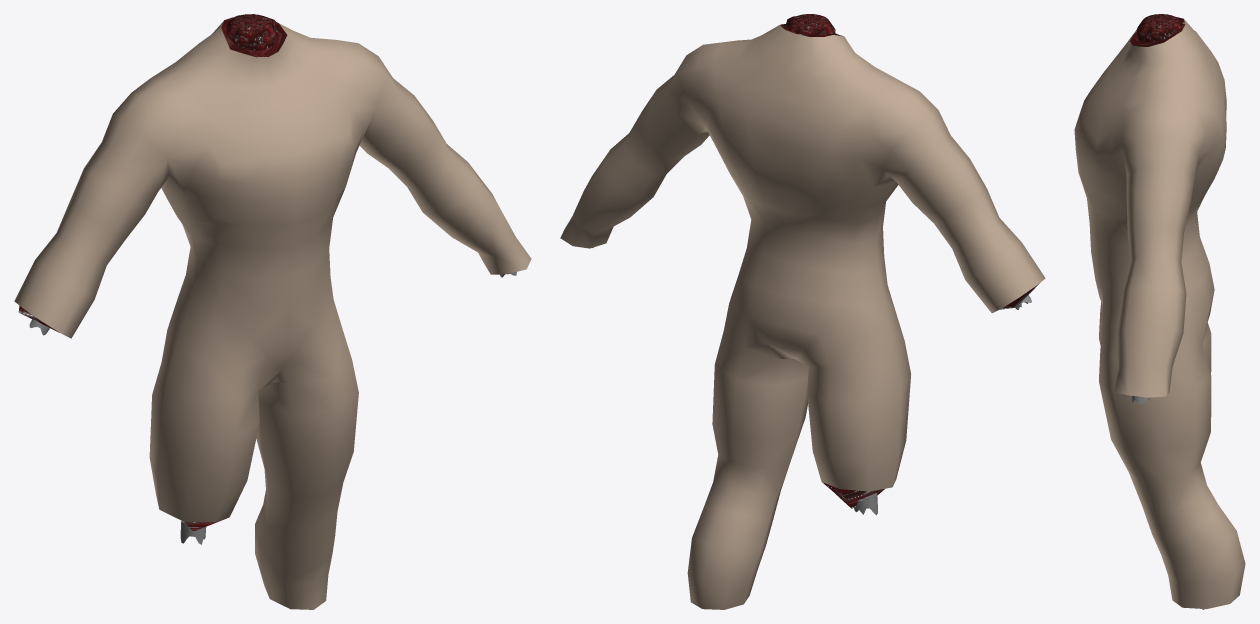
Rendered from deadbody-lee.fbx.
3 views of the same model, side by side, from view 1: azimuth 30°, elevation 25°; view 2: azimuth 150°, elevation 25°; view 3: azimuth 270°, elevation 25° (orthographic). The views are drawn at different scales.
Parts seen in each view (by area): view 1: CharacterFullAlienHorrorStyle_Alien_HorrorStyle, pSphere1; view 2: CharacterFullAlienHorrorStyle_Alien_HorrorStyle, pSphere1; view 3: CharacterFullAlienHorrorStyle_Alien_HorrorStyle, pSphere1.
Boxes of the visible parts, left/top/right/bottom form: CharacterFullAlienHorrorStyle_Alien_HorrorStyle: left=14, top=14, right=531, bottom=609; pSphere1: left=226, top=14, right=277, bottom=50; CharacterFullAlienHorrorStyle_Alien_HorrorStyle: left=560, top=24, right=1045, bottom=609; pSphere1: left=785, top=14, right=835, bottom=35; CharacterFullAlienHorrorStyle_Alien_HorrorStyle: left=1074, top=17, right=1245, bottom=609; pSphere1: left=1136, top=14, right=1181, bottom=42.
Size of the model in its own units: 133 by 157 by 43.87.
3 materials, 1 textured.
